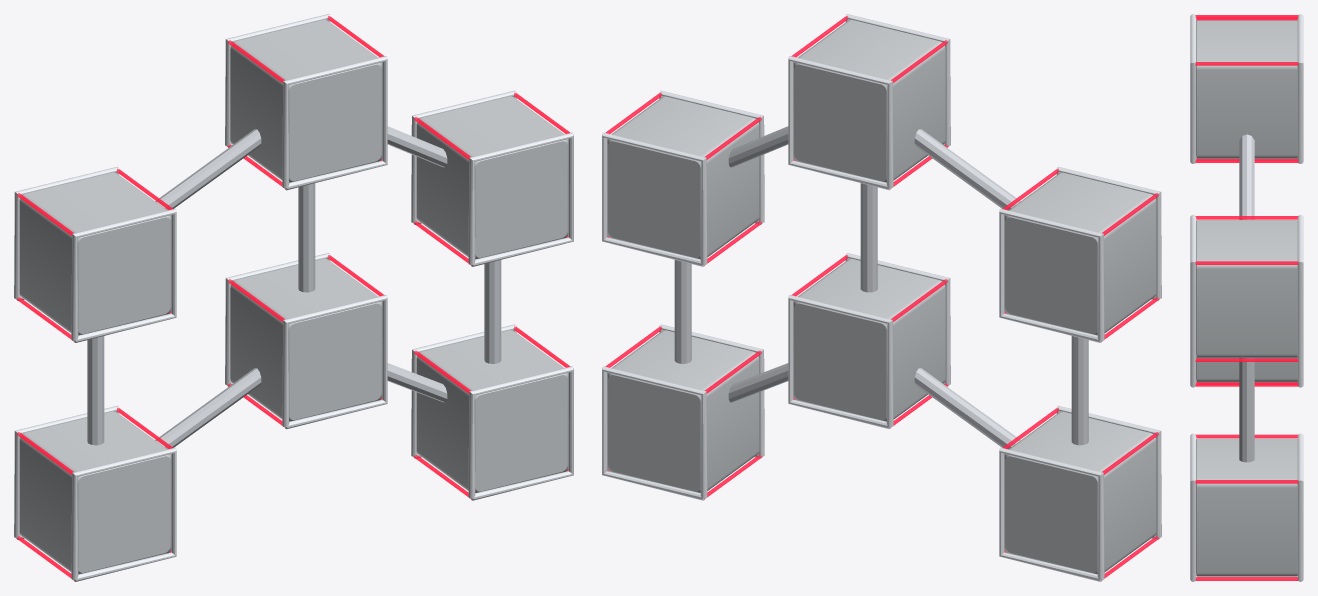
File: 32-data-model.glb
3 renders of one model, left to right at view 1: azimuth 30°, elevation 25°; view 2: azimuth 150°, elevation 25°; view 3: azimuth 270°, elevation 25°, orthographic. The views are drawn at different scales.
Parts seen in each view (by area): view 1: BC clear optical glass, BC polished silver metal, BC satin silver metal, BC neon red glass edge; view 2: BC clear optical glass, BC polished silver metal, BC satin silver metal, BC neon red glass edge; view 3: BC clear optical glass, BC polished silver metal, BC neon red glass edge, BC satin silver metal.
Boxes of the visible parts, x1,y1,x2,y2 form: BC clear optical glass: (19, 19, 568, 574); BC polished silver metal: (14, 14, 573, 581); BC satin silver metal: (87, 126, 501, 449); BC neon red glass edge: (16, 16, 570, 580); BC clear optical glass: (607, 19, 1156, 574); BC polished silver metal: (602, 14, 1161, 581); BC satin silver metal: (674, 126, 1088, 449); BC neon red glass edge: (605, 16, 1159, 580); BC clear optical glass: (1196, 20, 1297, 576); BC polished silver metal: (1190, 14, 1303, 581); BC neon red glass edge: (1195, 15, 1298, 580); BC satin silver metal: (1239, 134, 1254, 462).
Bounding box in the file's own units: 2.02 × 1.79 × 0.4228.
